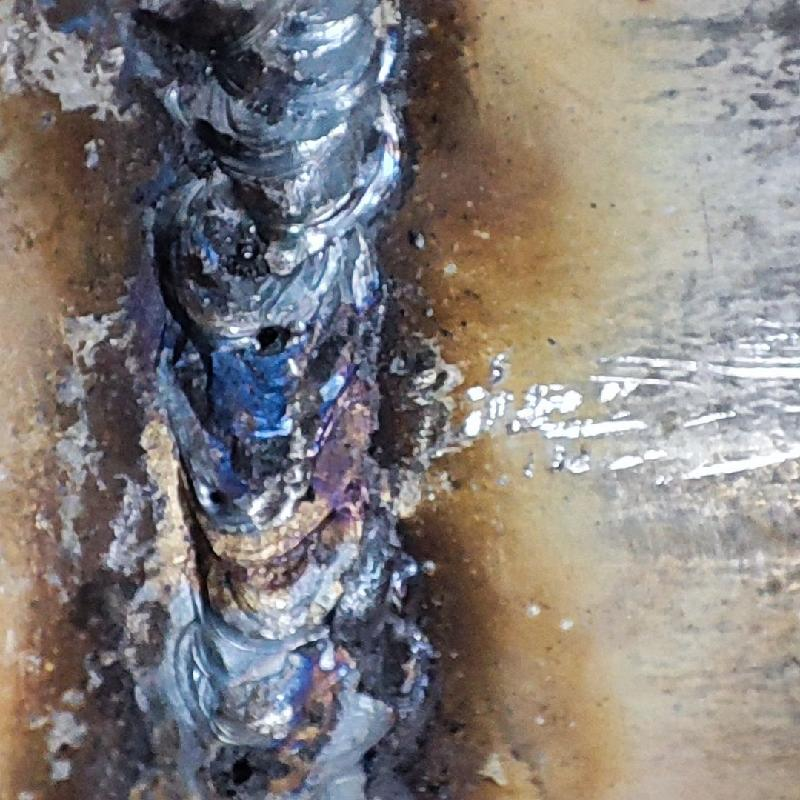Surface_pores: (237, 308, 306, 370)
